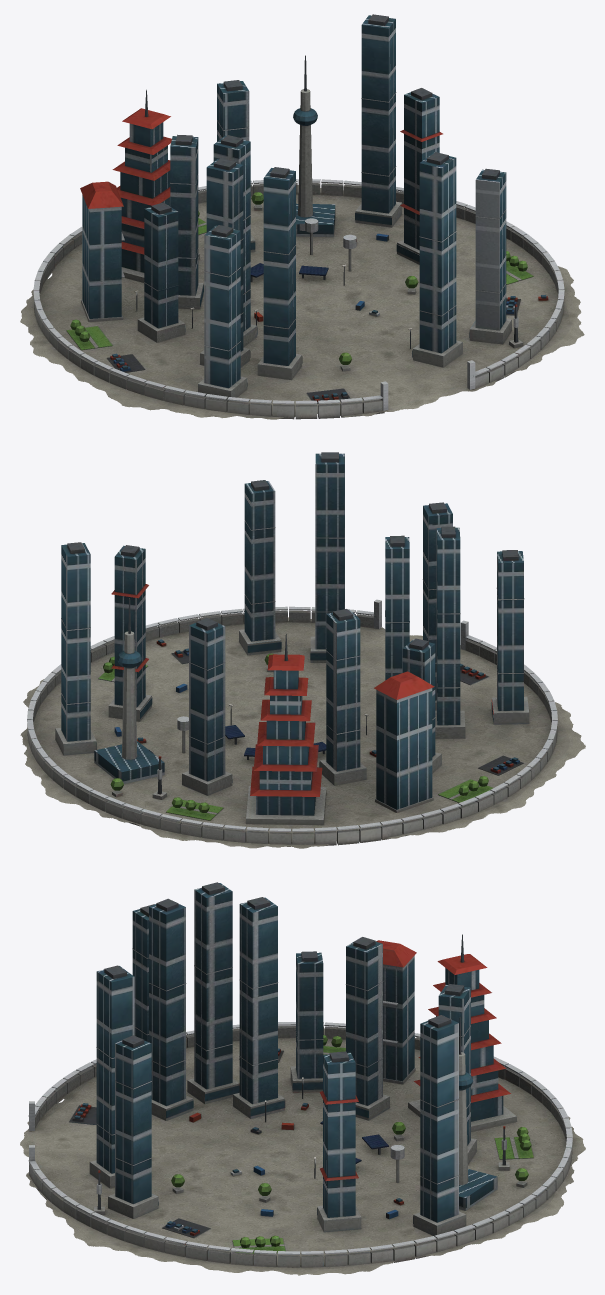
File: information-town-medium-a-sinic.glb
3 views of the same model, one above another, from view 1: azimuth 30°, elevation 25°; view 2: azimuth 150°, elevation 25°; view 3: azimuth 270°, elevation 25° (orthographic). The views are drawn at different scales.
Visible parts, largest first — view 1: LOD0; view 2: LOD0; view 3: LOD0.
Part boxes in pixels (x1=…): LOD0: x1=20, y1=14, x2=584, y2=419; LOD0: x1=20, y1=452, x2=585, y2=848; LOD0: x1=20, y1=882, x2=585, y2=1275.
Size of what is drawn, in the model's own units: 5.98 by 2.3 by 5.74.
Materials: 3 (3 with a texture image).
